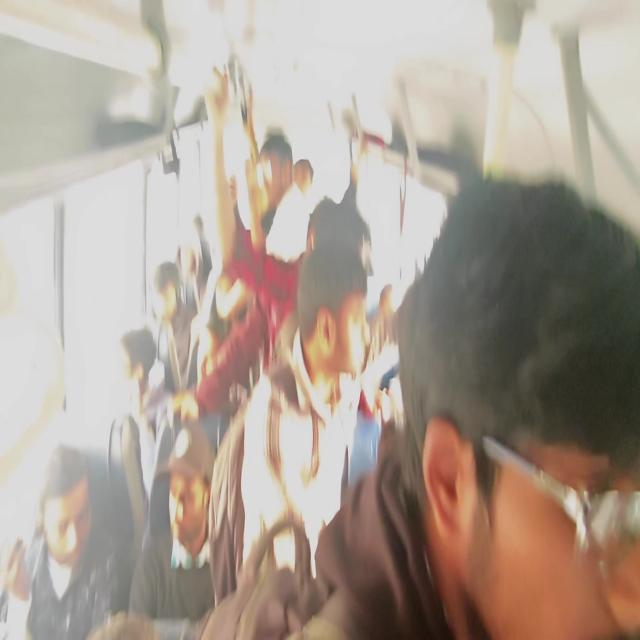person: (3, 57, 638, 638), (394, 172, 639, 638), (207, 233, 372, 608), (5, 442, 127, 638), (128, 418, 216, 628), (107, 326, 164, 549), (152, 259, 194, 390)
